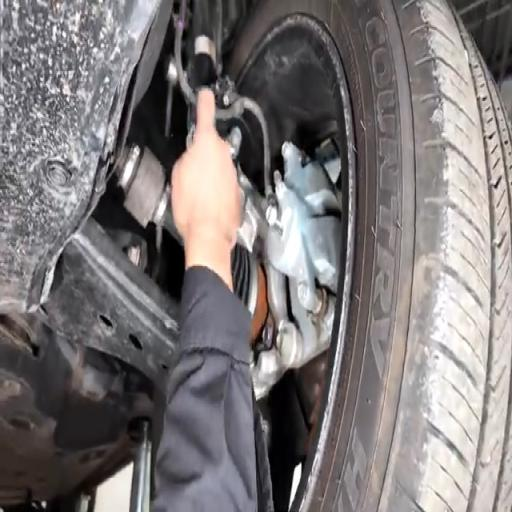tire: (233, 0, 511, 511)
trunk: (452, 0, 511, 82)
wheel: (230, 0, 511, 511)
